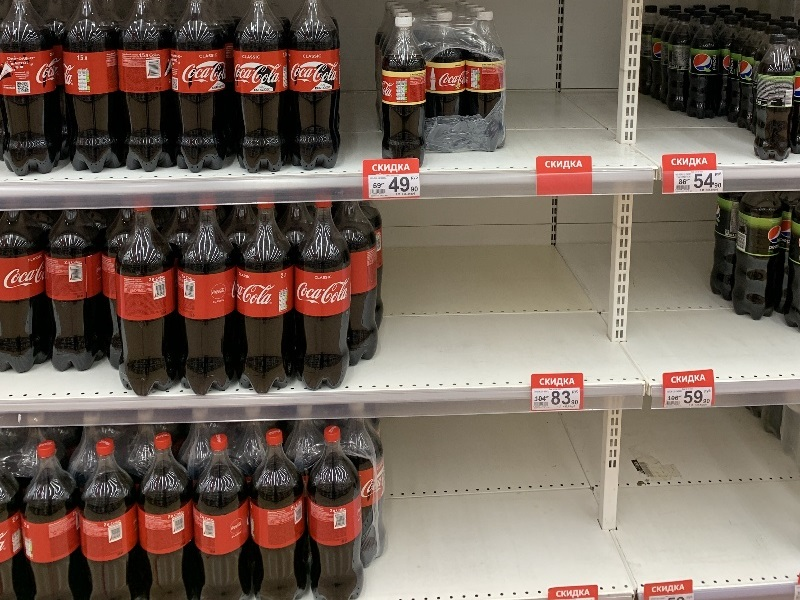lemonade: (36, 195, 111, 375), (173, 200, 240, 398), (233, 192, 297, 399), (166, 1, 239, 179), (114, 199, 177, 403), (225, 1, 298, 174), (241, 426, 313, 598), (291, 197, 353, 396), (300, 427, 372, 598), (58, 1, 126, 174), (184, 430, 254, 596), (18, 435, 91, 594), (74, 438, 145, 598), (117, 1, 179, 183), (135, 432, 202, 597), (1, 2, 62, 175), (288, 1, 346, 170), (377, 17, 426, 171), (753, 33, 794, 166)
